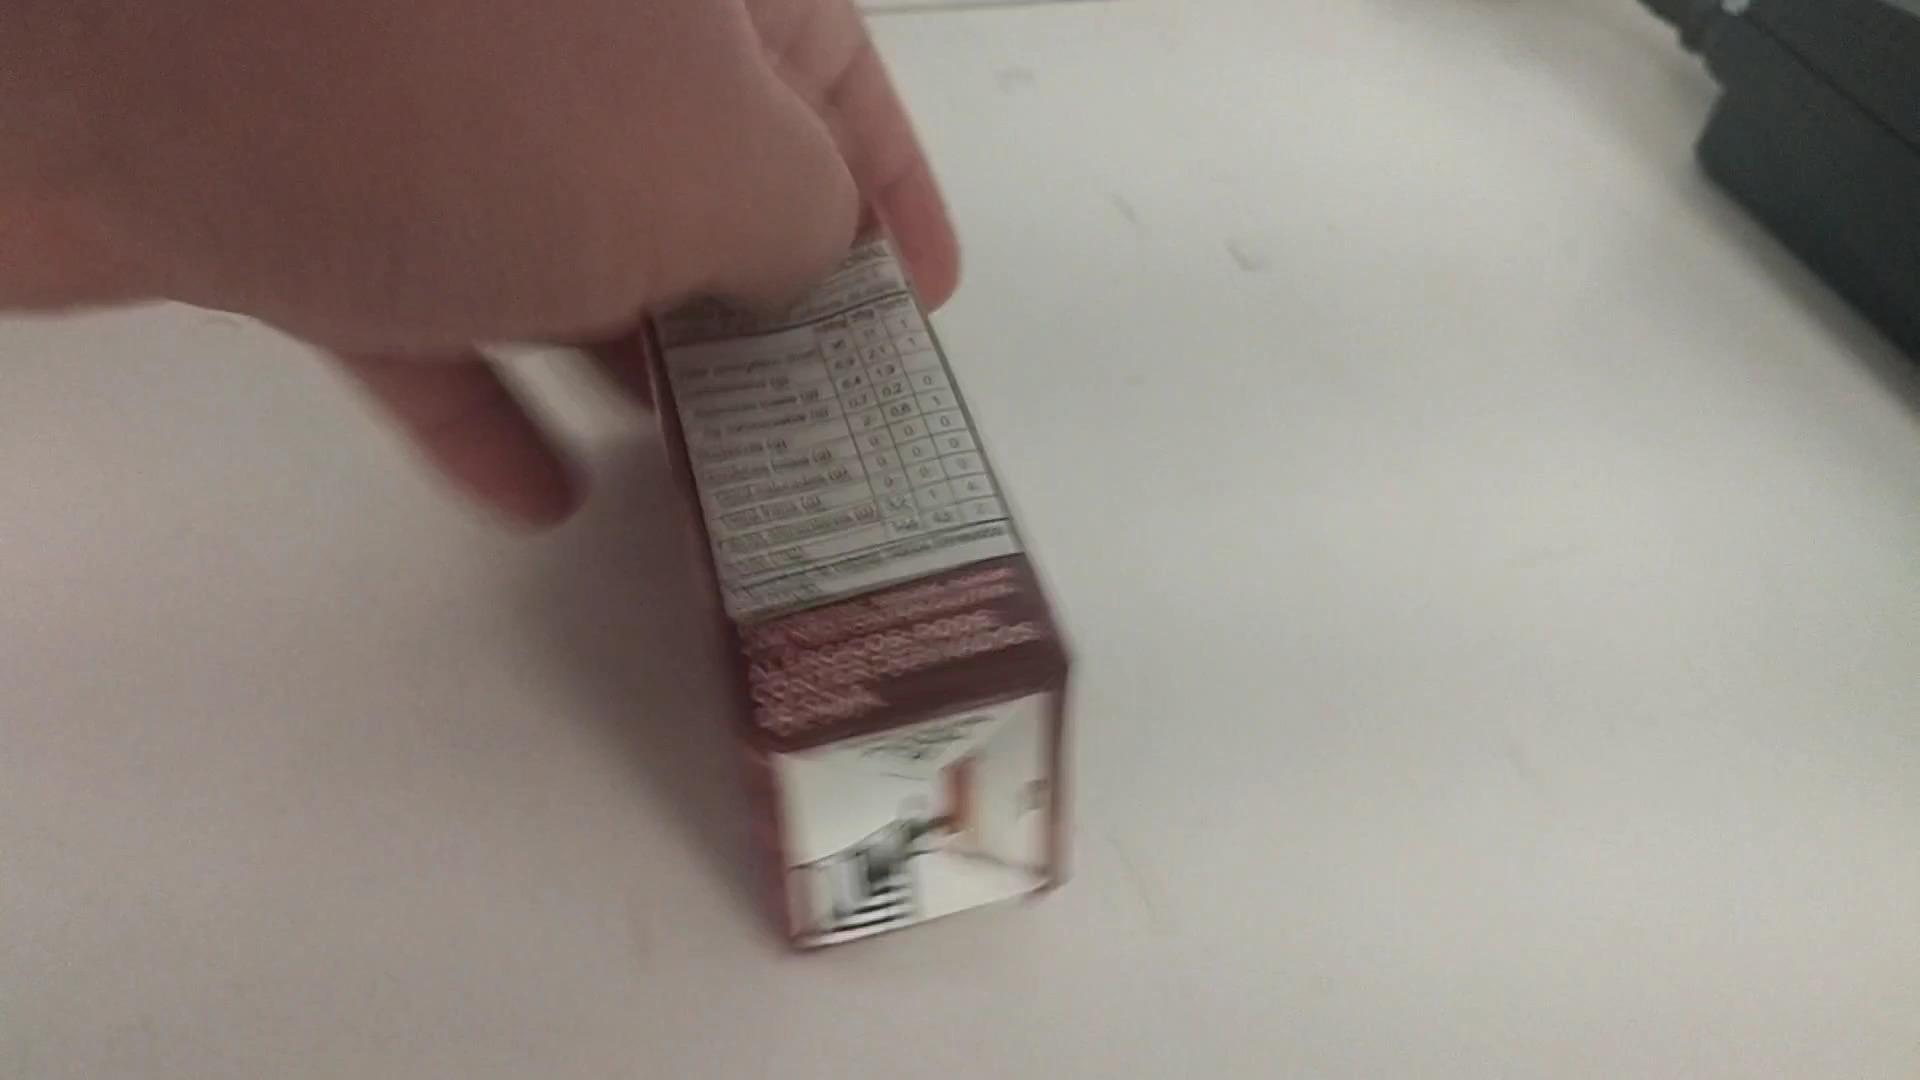tomate: (617, 138, 1079, 949)
